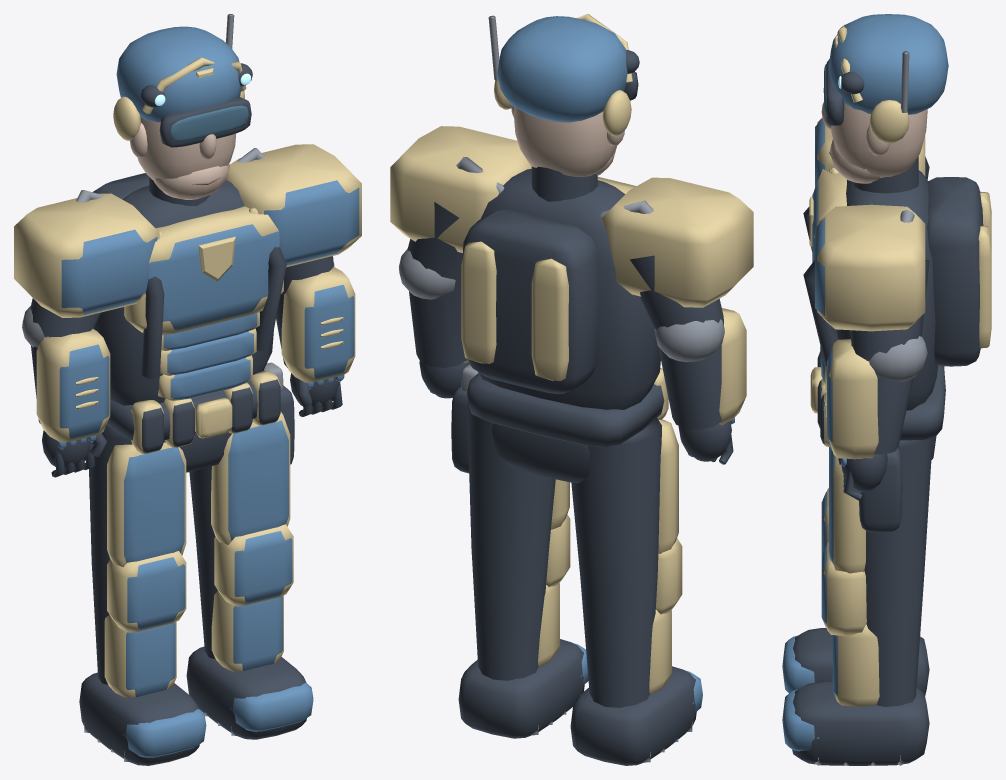
File: hfos_soldier.glb
The picture shows the model from 3 angles, left to right: view 1: azimuth 30°, elevation 25°; view 2: azimuth 150°, elevation 25°; view 3: azimuth 270°, elevation 25°; orthographic projection. The views are drawn at different scales.
Visible parts, largest first — view 1: Shoulder leftArm rim, Breastplate armour, Blue combat helmet, Undersuit torso, Thigh leftLeg armour, Thigh rightLeg armour, Shoulder leftArm armour, Shoulder rightArm rim, Shoulder rightArm armour, Boot leftLeg, Boot rightLeg, Forearm rightArm armour (+44 smaller); view 2: Trouser leg leftLeg, Trouser leg rightLeg, Shoulder leftArm rim, Backpack, Undersuit torso, Blue combat helmet, Shoulder rightArm rim, Boot leftLeg, Boot rightLeg, Belt, Sleeve leftArm, Sleeve rightArm (+18 smaller); view 3: Shoulder rightArm rim, Trouser leg rightLeg, Backpack, Blue combat helmet, Boot rightLeg, Forearm rightArm rim, Undersuit torso, Sleeve rightArm, Face, Shin rightLeg rim, Thigh rightLeg rim, Knee rightLeg rim (+23 smaller).
Part boxes in pixels (x1,y1,x2,y2): Shoulder leftArm rim: [14, 193, 159, 317]; Breastplate armour: [148, 224, 279, 330]; Blue combat helmet: [116, 26, 241, 122]; Undersuit torso: [94, 180, 273, 405]; Thigh leftLeg armour: [124, 447, 184, 563]; Thigh rightLeg armour: [228, 420, 288, 540]; Shoulder leftArm armour: [61, 229, 157, 314]; Shoulder rightArm rim: [226, 144, 361, 267]; Shoulder rightArm armour: [264, 180, 359, 265]; Boot leftLeg: [79, 672, 199, 765]; Boot rightLeg: [186, 646, 306, 739]; Forearm rightArm armour: [304, 284, 354, 379]; Trouser leg leftLeg: [571, 418, 661, 707]; Trouser leg rightLeg: [467, 400, 555, 680]; Shoulder leftArm rim: [601, 177, 753, 307]; Backpack: [462, 209, 599, 393]; Undersuit torso: [477, 169, 660, 409]; Blue combat helmet: [497, 16, 627, 122]; Shoulder rightArm rim: [390, 126, 531, 252]; Boot leftLeg: [570, 666, 696, 765]; Boot rightLeg: [458, 639, 584, 738]; Belt: [466, 373, 664, 446]; Sleeve leftArm: [629, 255, 723, 429]; Sleeve rightArm: [407, 202, 467, 367]; Shoulder rightArm rim: [817, 204, 925, 331]; Trouser leg rightLeg: [864, 437, 932, 706]; Backpack: [927, 177, 983, 366]; Blue combat helmet: [828, 14, 948, 114]; Boot rightLeg: [792, 681, 929, 765]; Forearm rightArm rim: [829, 339, 878, 459]; Undersuit torso: [836, 170, 937, 410]; Sleeve rightArm: [850, 260, 929, 454]; Face: [831, 103, 927, 177]; Shin rightLeg rim: [834, 624, 879, 706]; Thigh rightLeg rim: [833, 456, 865, 573]; Knee rightLeg rim: [823, 541, 866, 635].
Bounding box in the file's own units: 2.05 × 4.28 × 1.15.
